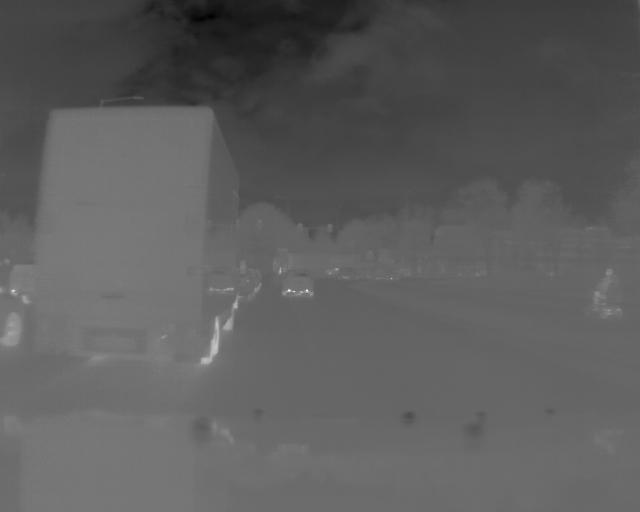car: (36, 103, 238, 367), (281, 272, 315, 298)
person: (590, 263, 621, 321)
